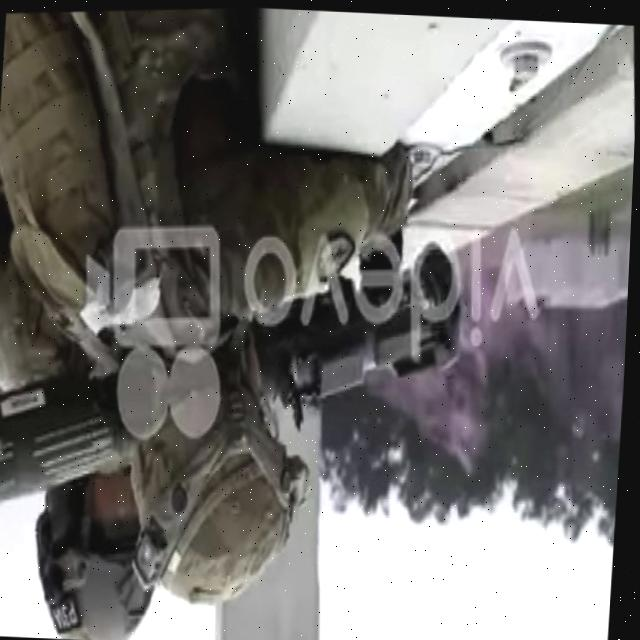rocket: (0, 234, 480, 524)
